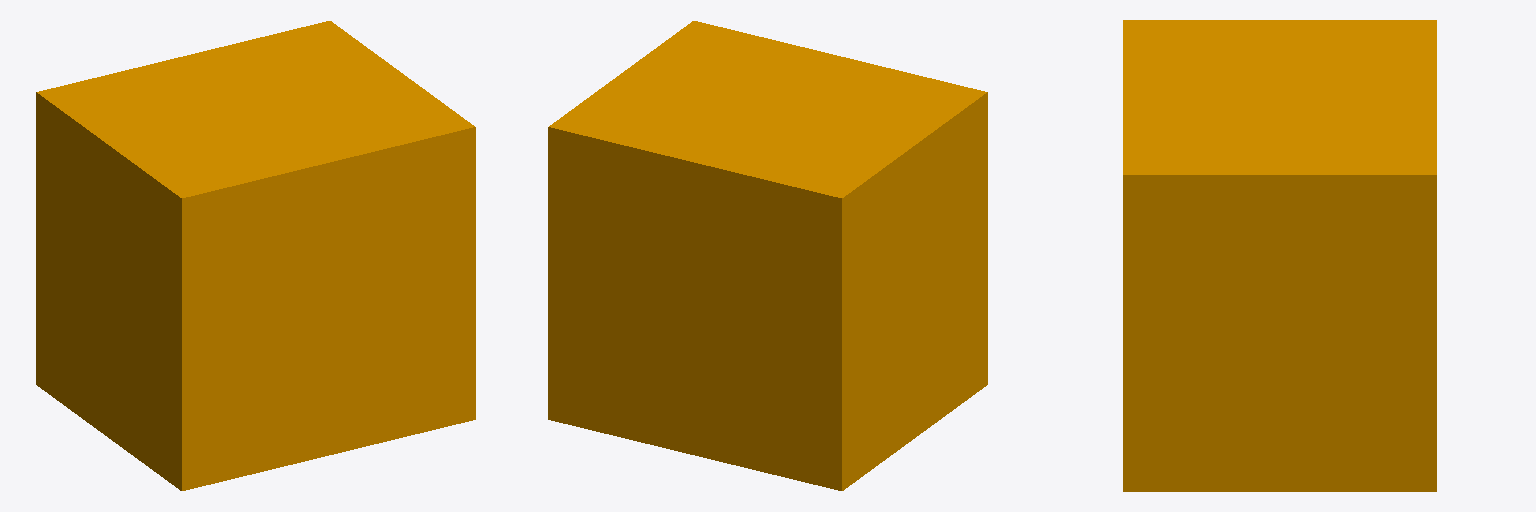
URDF robot description (object):
<robot name="object">
  <link name="object">
    <visual>
      <origin xyz="0 0 0" />
      <geometry>
        <box size="0.08400000000000002 0.07200000000000001 0.08" />
      </geometry>
    </visual>

    <collision>
      <origin xyz="0 0 0" />
      <geometry>
        <box size="0.08400000000000002 0.07200000000000001 0.08" />
      </geometry>
    </collision>

    <inertial>
      <mass value="0.05" />
      <inertia ixx="0.0001" ixy="0.0" ixz="0.0" iyy="0.0001" iyz="0.0" izz="0.0001" />
    </inertial>
  </link>
</robot>

--- Render facts (derived) ---
3 views of the same robot in one strip: view 1: azimuth 30°, elevation 25°; view 2: azimuth 150°, elevation 25°; view 3: azimuth 270°, elevation 25° (orthographic).
Model object with 1 links and 0 joints (none), rooted at object, posed every joint at zero.
Visible links, largest first — view 1: object; view 2: object; view 3: object.
Boxes of the visible links, x1=… form: object: x1=36, y1=21, x2=475, y2=490; object: x1=548, y1=21, x2=987, y2=490; object: x1=1123, y1=20, x2=1436, y2=491.
Bounding box of the posed robot: 0.084 × 0.072 × 0.08 m (x, y, z).
Geometry: primitives only (box / cylinder / sphere), no mesh files.